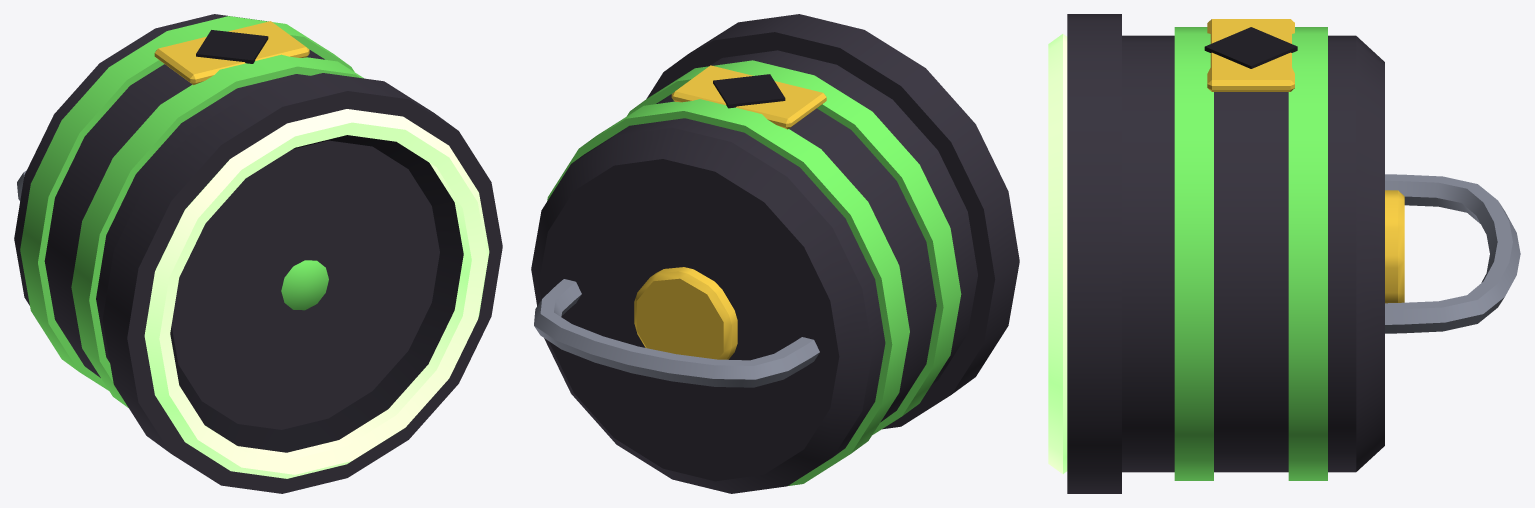
Rendered from arc.glb.
The picture shows the model from 3 angles, left to right: view 1: azimuth 30°, elevation 25°; view 2: azimuth 150°, elevation 25°; view 3: azimuth 270°, elevation 25°; orthographic projection. The views are drawn at different scales.
Visible parts, largest first — view 1: Projectile; view 2: Projectile; view 3: Projectile.
Boxes of the visible parts, <box> form: Projectile: <box>14,14,502,493</box>; Projectile: <box>531,14,1019,493</box>; Projectile: <box>1048,14,1520,493</box>.
Size of the model in its own units: 0.22 by 0.2167 by 0.2157.
